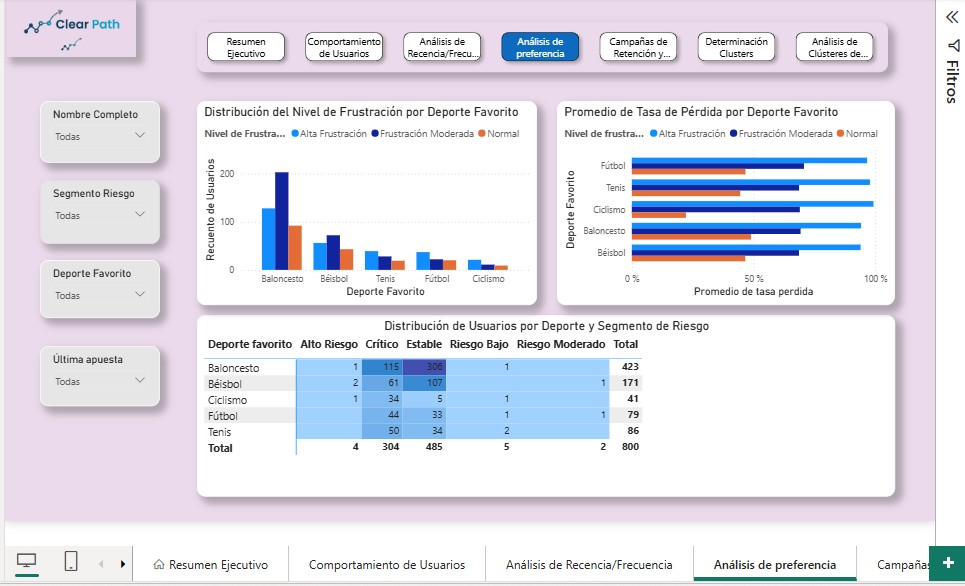

Layout of this report page (visuals, bound fields, positions):
{"tool":"powerbi","page":{"name":"Análisis de preferencia","canvas":[1280,720],"ordinal":3},"visuals":[{"type":"pivotTable","title":"Distribución de Usuarios por Deporte y Segmento de Riesgo","fields":{"Rows":["churn.deporte_favorito"],"Columns":["churn.segmento_riesgo"],"Values":["CountNonNull(churn.id_usuario)"]},"box":[264.3,436.3,960.7,250.5],"z":0},{"type":"clusteredColumnChart","title":"Distribución del Nivel de Frustración por Deporte Favorito","fields":{"Category":["churn.deporte_favorito"],"Y":["CountNonNull(churn.id_usuario)"],"Series":["churn.nivel_frustracion"]},"box":[264.3,141.8,468,280.8],"z":1000},{"type":"clusteredBarChart","title":"Promedio de Tasa de Pérdida por Deporte Favorito","fields":{"Category":["churn.deporte_favorito"],"Y":["Avg(churn.tasa_perdida)"],"Series":["churn.nivel_frustracion"]},"box":[759.7,141.8,465.2,280.8],"z":2000},{"type":"slicer","fields":{"Values":["churn.Nombre_Completo"]},"box":[48.2,141.8,165.2,85.3],"z":3000},{"type":"slicer","fields":{"Values":["churn.deporte_favorito"]},"box":[48.2,360.6,165.2,79.8],"z":4000},{"type":"slicer","fields":{"Values":["churn.dias_desde_ultima_apuesta"]},"box":[48.2,479,165.2,82.6],"z":5000},{"type":"pageNavigator","box":[264.3,33,951.1,68.8],"z":6000},{"type":"image","box":[2.8,0,177.5,81.2],"z":7000},{"type":"slicer","fields":{"Values":["churn.segmento_riesgo"]},"box":[48.2,250.5,165.2,88.1],"z":8000}]}

Visuals, with their boxes on the page's 1280x720 design canvas (x1, y1, x2, y2). These are canvas units, not pixel positions in the 965x586 screenshot, which may show the page scaled, cropped or inside an application window:
"Distribución de Usuarios por Deporte y Segmento de Riesgo" pivotTable: (x1=264, y1=436, x2=1225, y2=687)
"Distribución del Nivel de Frustración por Deporte Favorito" clusteredColumnChart: (x1=264, y1=142, x2=732, y2=423)
"Promedio de Tasa de Pérdida por Deporte Favorito" clusteredBarChart: (x1=760, y1=142, x2=1225, y2=423)
slicer - churn.Nombre_Completo: (x1=48, y1=142, x2=213, y2=227)
slicer - churn.deporte_favorito: (x1=48, y1=361, x2=213, y2=440)
slicer - churn.dias_desde_ultima_apuesta: (x1=48, y1=479, x2=213, y2=562)
pageNavigator: (x1=264, y1=33, x2=1215, y2=102)
image: (x1=3, y1=0, x2=180, y2=81)
slicer - churn.segmento_riesgo: (x1=48, y1=250, x2=213, y2=339)
